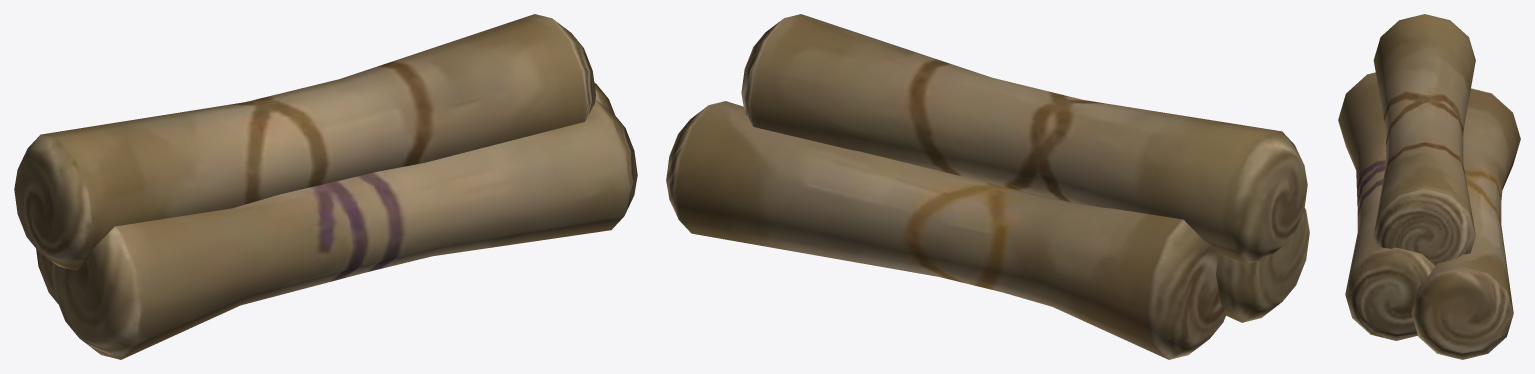
The picture shows the model from 3 angles, left to right: view 1: azimuth 30°, elevation 25°; view 2: azimuth 150°, elevation 25°; view 3: azimuth 270°, elevation 25°; orthographic projection. The views are drawn at different scales.
Parts seen in each view (by area): view 1: SM_DR_ScrollStack_03_LOD0; view 2: SM_DR_ScrollStack_03_LOD0; view 3: SM_DR_ScrollStack_03_LOD0.
Boxes of the visible parts, left/top/right/bottom form: SM_DR_ScrollStack_03_LOD0: left=14, top=14, right=637, bottom=359; SM_DR_ScrollStack_03_LOD0: left=666, top=14, right=1309, bottom=359; SM_DR_ScrollStack_03_LOD0: left=1338, top=14, right=1520, bottom=359.
Bounding box in the file's own units: 0.5166 × 0.1854 × 0.1929.
1 material, 1 textured.
